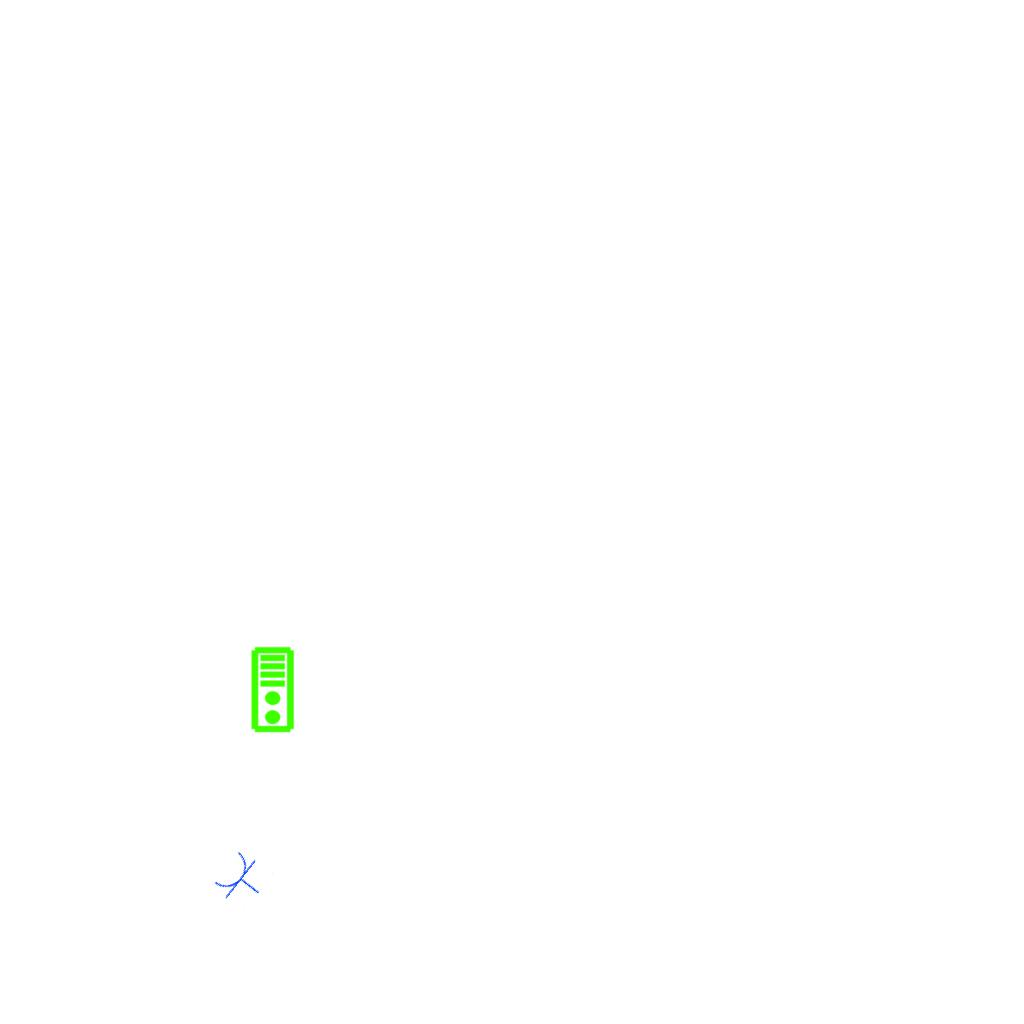Gegensprechanlage_mit_Video: (250, 646, 297, 734)
Schukosteckdose_einfach: (209, 846, 275, 913)
